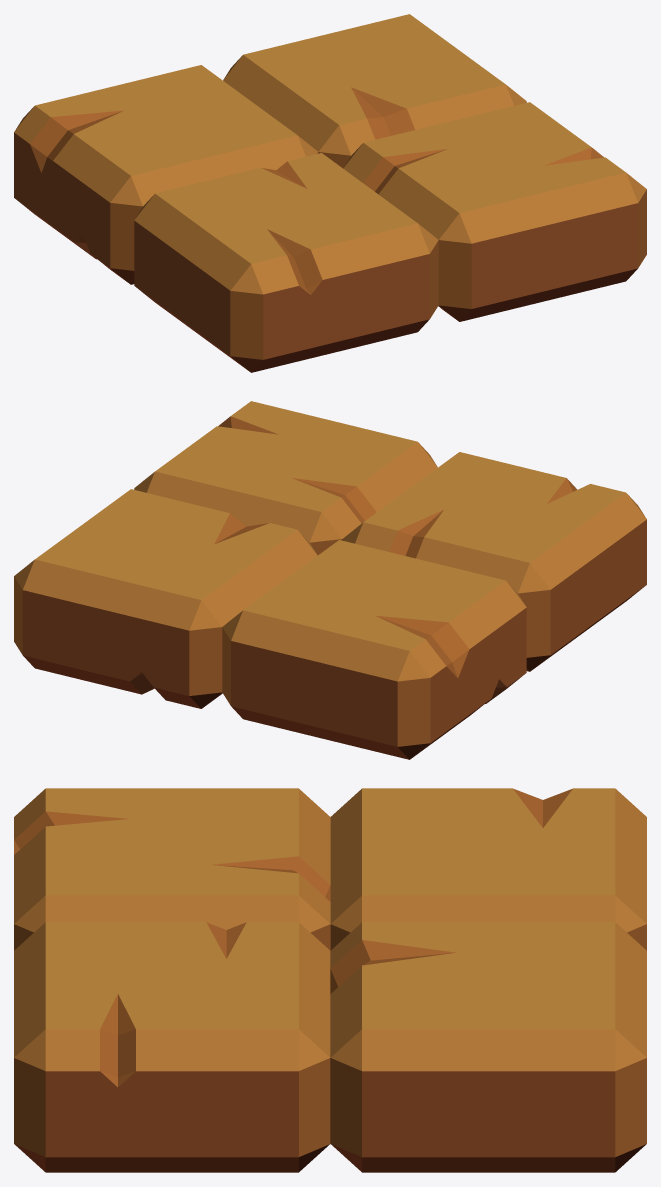
File: m_kub_wood_flatFour.FBX
3 renders of one model, top to bottom at view 1: azimuth 30°, elevation 25°; view 2: azimuth 150°, elevation 25°; view 3: azimuth 270°, elevation 25°, orthographic. The views are drawn at different scales.
Parts seen in each view (by area): view 1: m_kub_wood_flatFour; view 2: m_kub_wood_flatFour; view 3: m_kub_wood_flatFour.
Part boxes in pixels (x1,y1,x2,y2): m_kub_wood_flatFour: [14, 14, 646, 372]; m_kub_wood_flatFour: [14, 401, 646, 759]; m_kub_wood_flatFour: [14, 788, 646, 1172].
Size of the model in its own units: 2 by 0.5 by 2.
